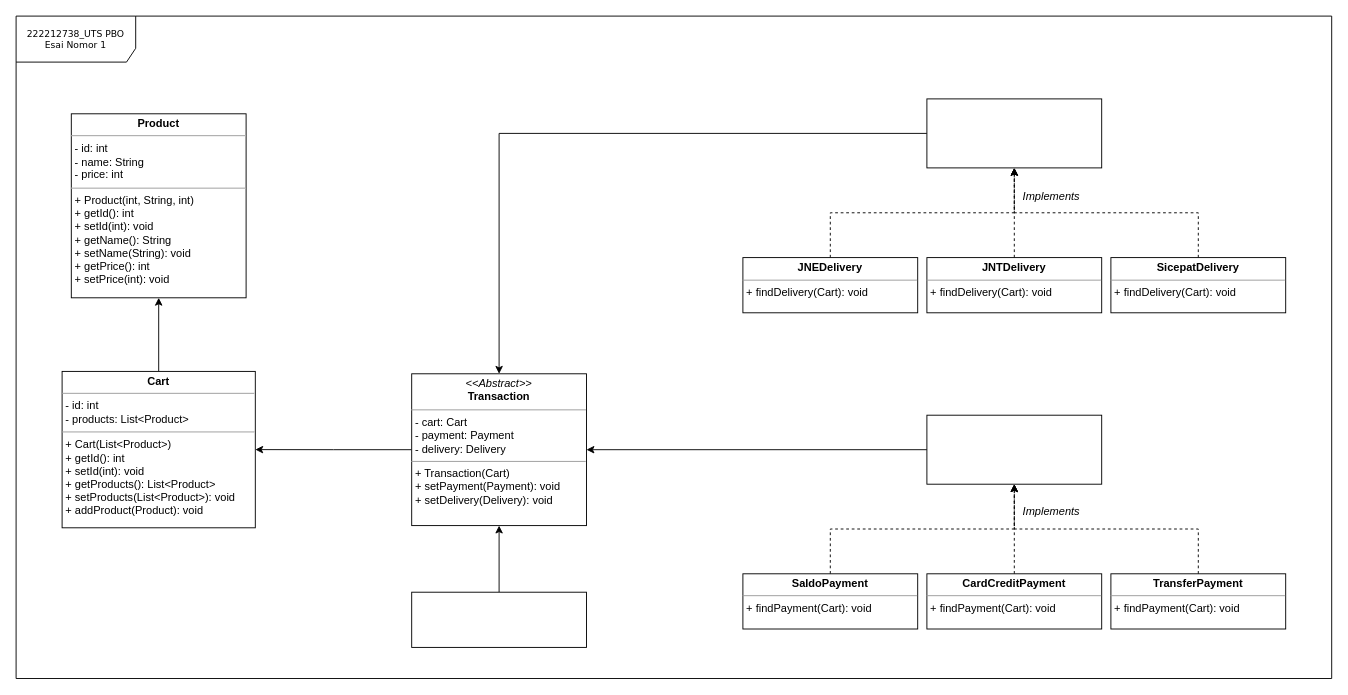
This 1348x695 diagram has some shape labels left out. The shapes that lost their labels are listed below. From the top down, each one's centre as x and y in pixels, then its label:
the point at 1014,133: <<Interface>> Delivery + findDelivery(Cart): void
the point at 1014,449: <<Interface>> Payment + findPayment(Cart): void
the point at 498,619: Transactions + Transactions(Cart)
